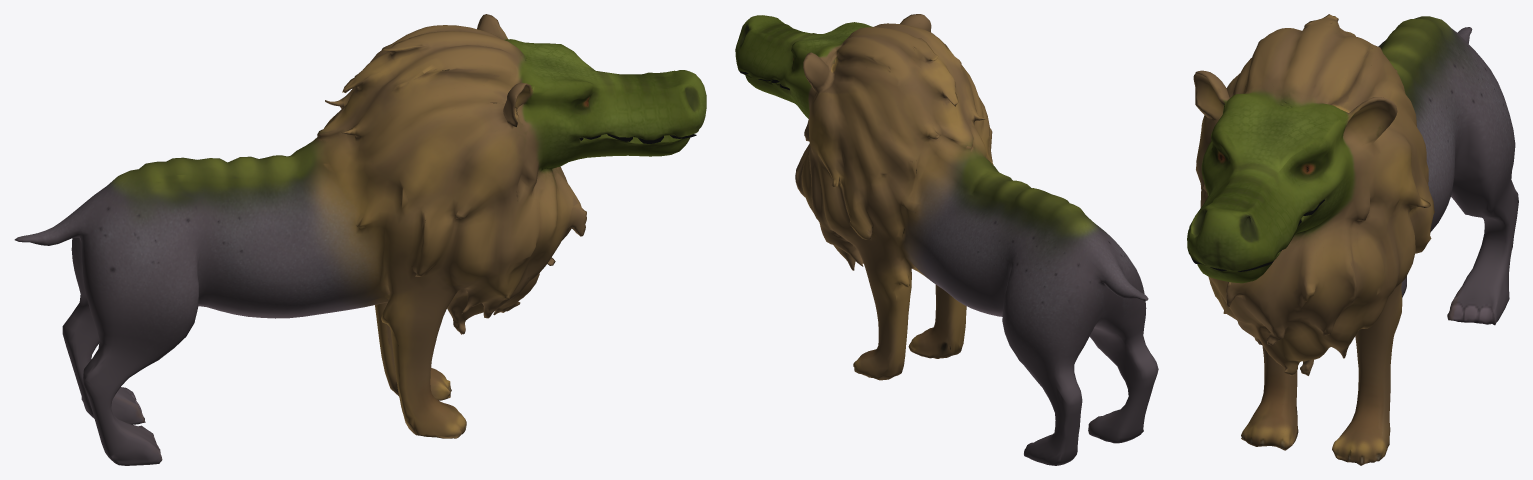
File: tuo-modello.glb
The picture shows the model from 3 angles, left to right: view 1: azimuth 30°, elevation 25°; view 2: azimuth 150°, elevation 25°; view 3: azimuth 270°, elevation 25°; orthographic projection. The views are drawn at different scales.
Parts seen in each view (by area): view 1: Ammit_2; view 2: Ammit_2; view 3: Ammit_2.
Boxes of the visible parts, x1,y1,x2,y2 form: Ammit_2: (14, 14, 706, 465); Ammit_2: (735, 14, 1158, 465); Ammit_2: (1187, 14, 1518, 465).
Size of the model in its own units: 79.13 by 49.29 by 35.4.
Materials: 1 (1 with a texture image).
